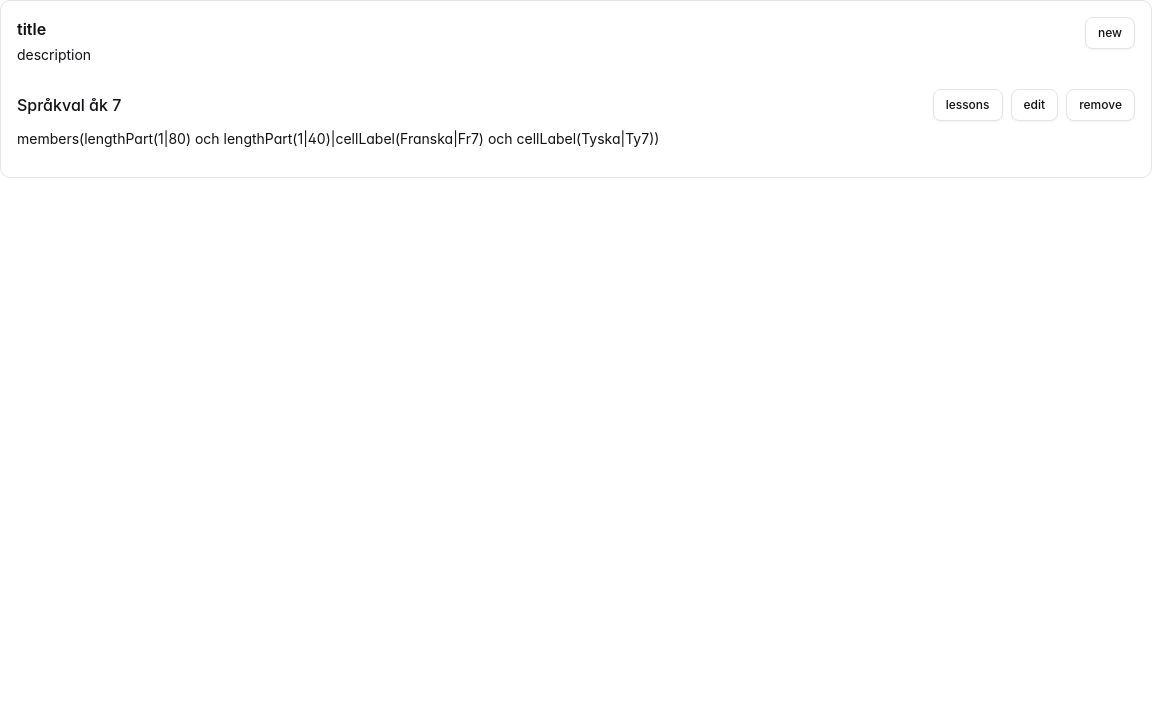
Test case: BlocksHost › Ändra lektioner › waits on lengths that cannot be stored
Click the button with aria-label "lessonsNamed(Språkval åk 7)".
click(968, 105)  # box [933, 89, 1002, 121]
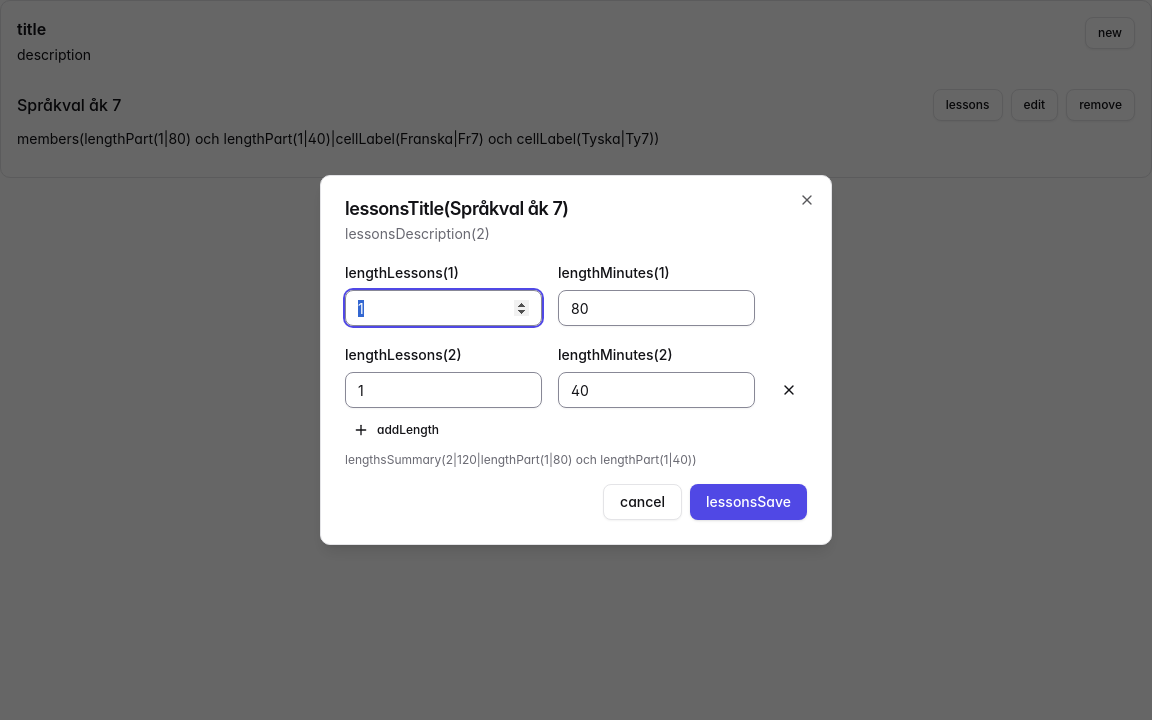
Clear the number field labelled "lengthLessons(1)" at (444, 308), box [345, 290, 542, 326]
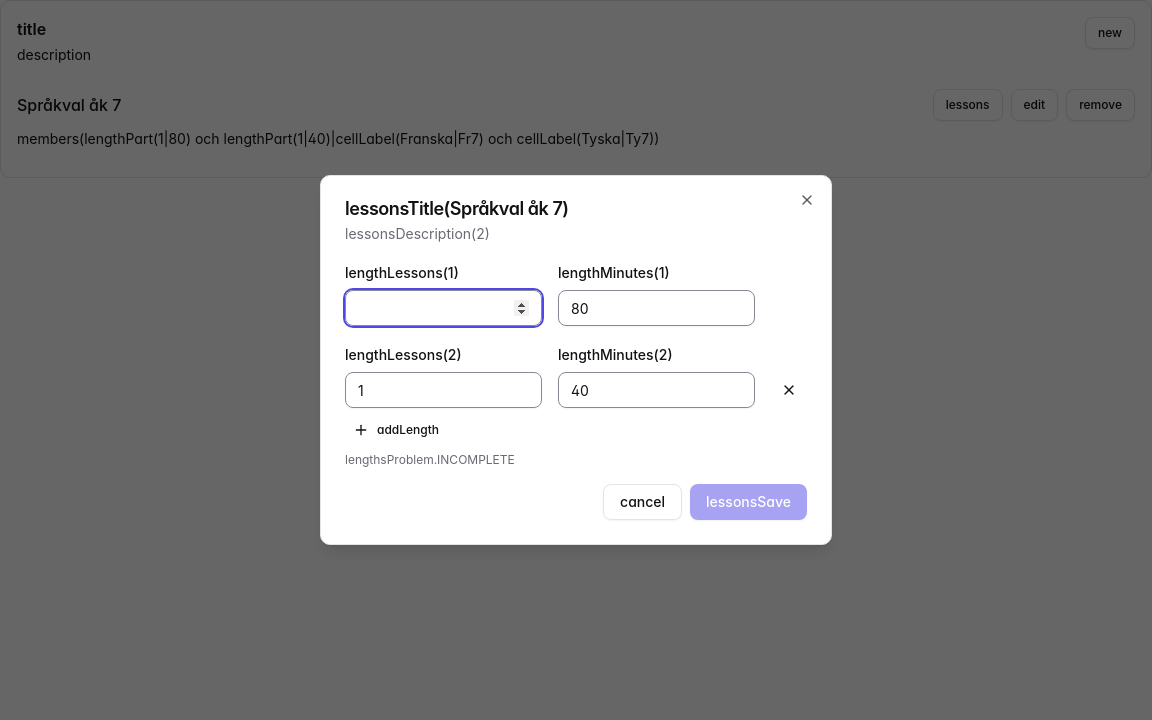
Expected: the button "lessonsSave" is disabled, [690, 484, 807, 520]
